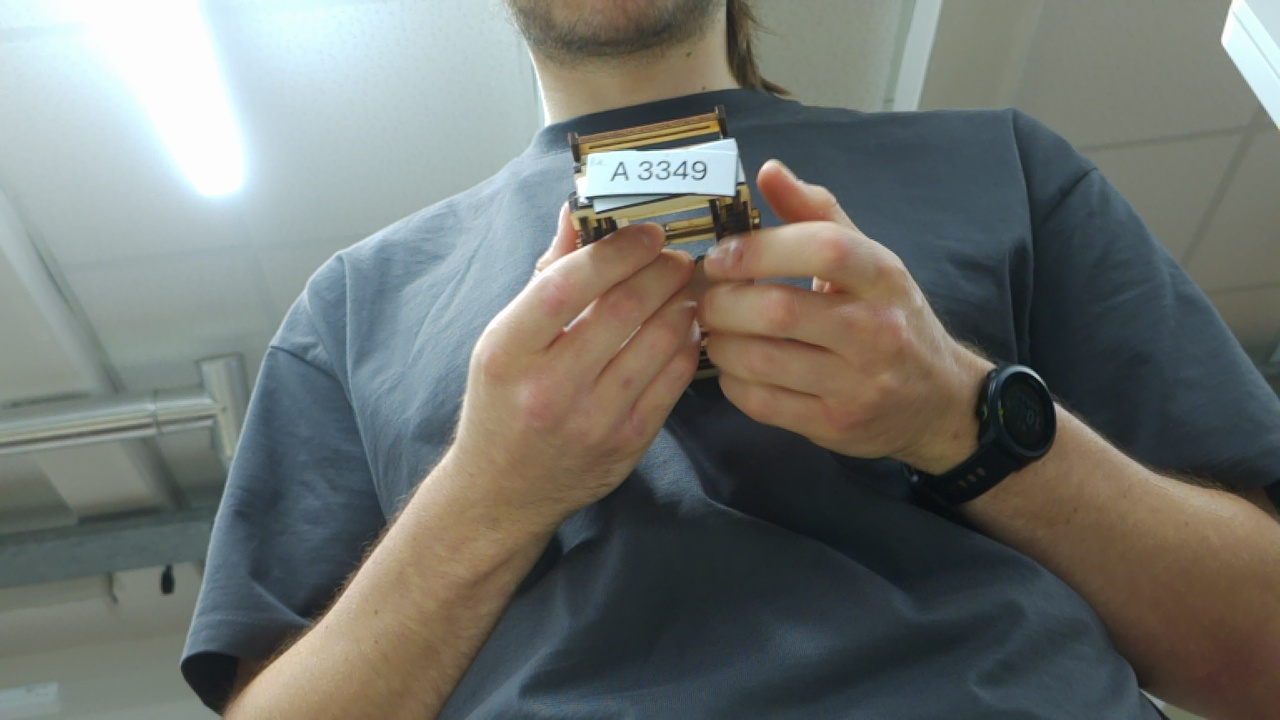license_plate: (579, 142, 742, 198)
